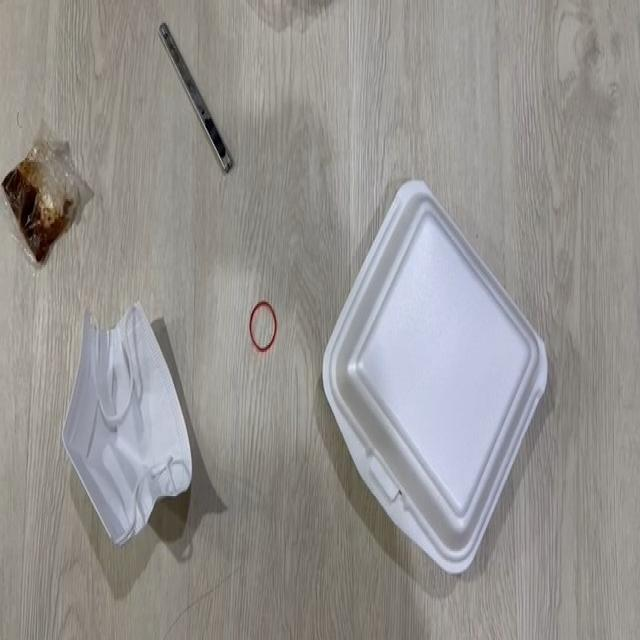Anorganik: (312, 177, 554, 564), (146, 19, 244, 183), (242, 298, 281, 358)
B3: (48, 298, 208, 556), (0, 118, 93, 272)
